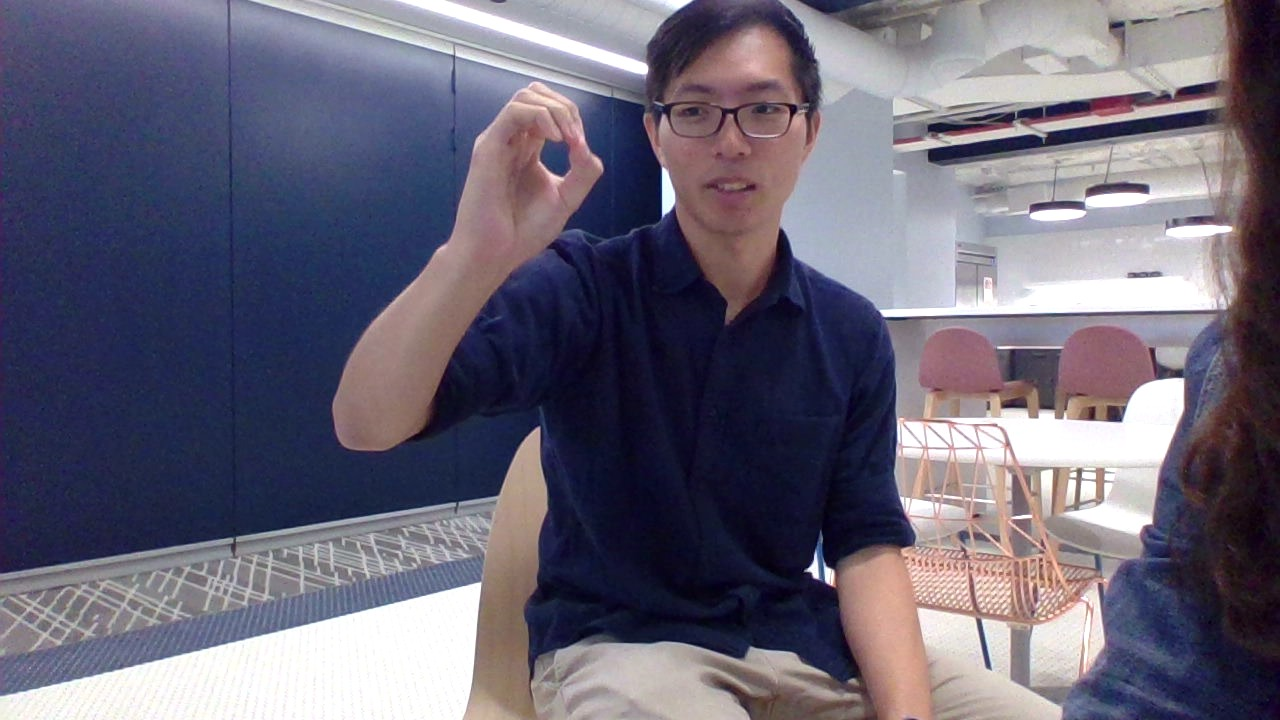o: (430, 66, 623, 293)
